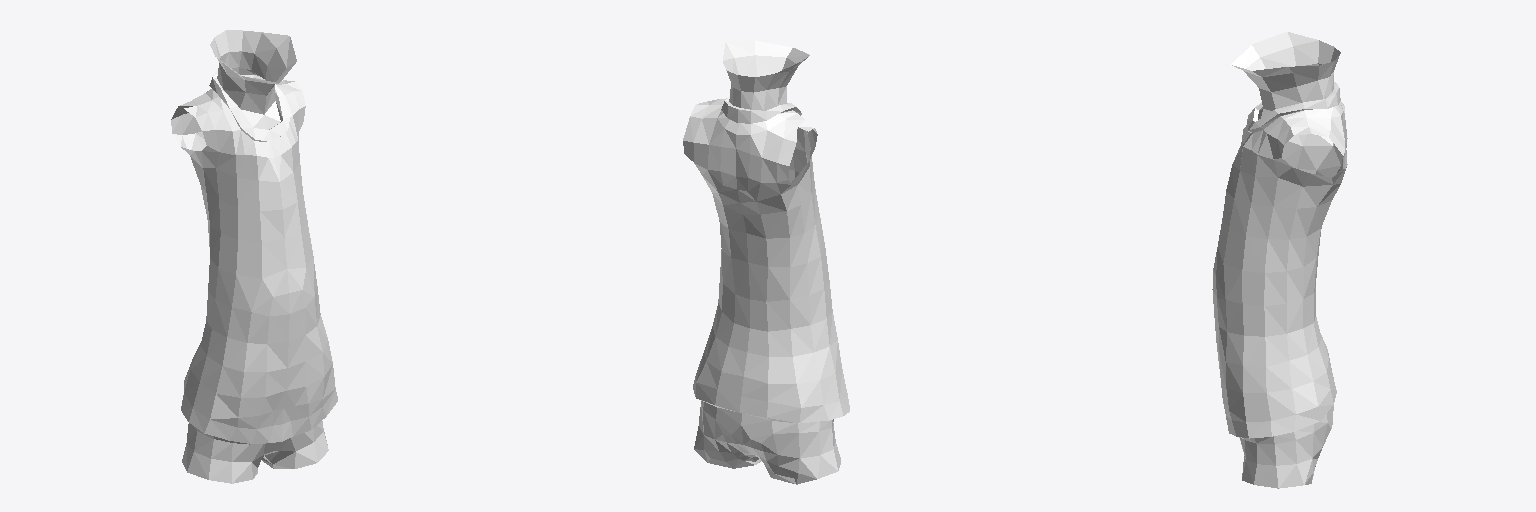
The model's file is torso.obj.
3 renders of one model, left to right at view 1: azimuth 30°, elevation 25°; view 2: azimuth 150°, elevation 25°; view 3: azimuth 270°, elevation 25°, orthographic.
Visible parts, largest first — view 1: nino001; view 2: nino001; view 3: nino001.
Boxes of the visible parts, <box> form: nino001: <box>171,30,337,483</box>; nino001: <box>683,41,849,484</box>; nino001: <box>1212,32,1347,488</box>.
Size of the model in its own units: 0.4423 by 1.23 by 0.3618.